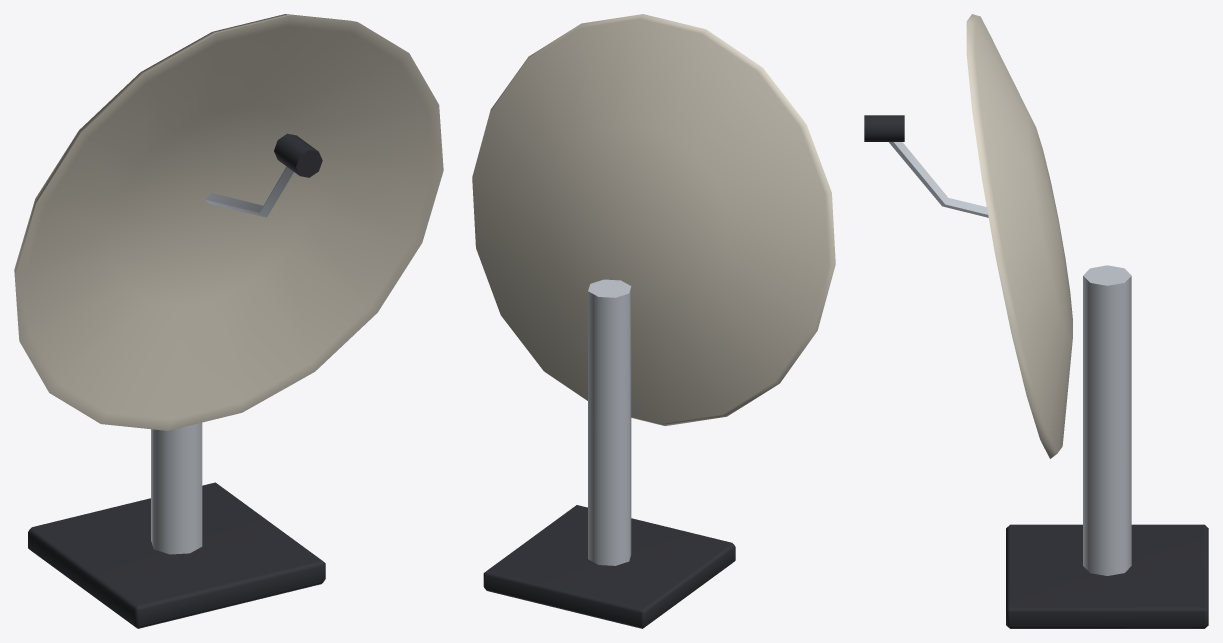
The model's file is rooftop_dish.glb.
The picture shows the model from 3 angles, left to right: view 1: azimuth 30°, elevation 25°; view 2: azimuth 150°, elevation 25°; view 3: azimuth 270°, elevation 25°; orthographic projection. The views are drawn at different scales.
Visible parts, largest first — view 1: rooftop_dish; view 2: rooftop_dish; view 3: rooftop_dish.
Part boxes in pixels (box(x1,y1,x2,y2)): rooftop_dish: box(14, 14, 443, 628); rooftop_dish: box(472, 14, 835, 628); rooftop_dish: box(864, 14, 1208, 628).
Size of the model in its own units: 1.12 by 1.5 by 0.85.
